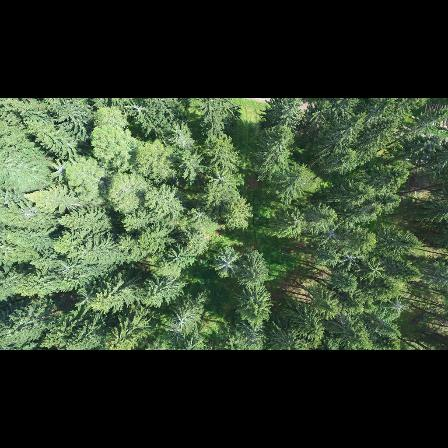Sick: (208, 242, 249, 283), (47, 152, 74, 185), (319, 221, 343, 246), (386, 296, 413, 318)
